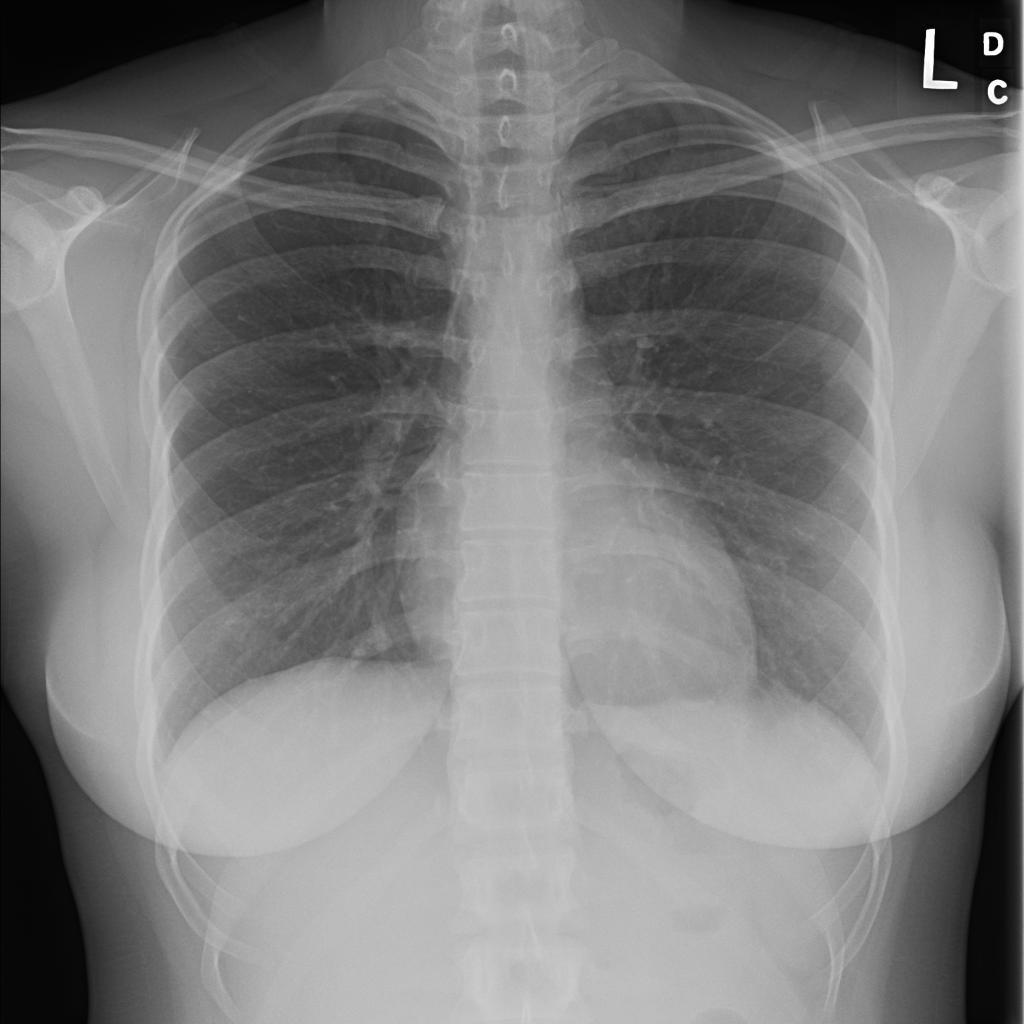Nodule: (202, 311, 257, 343)
